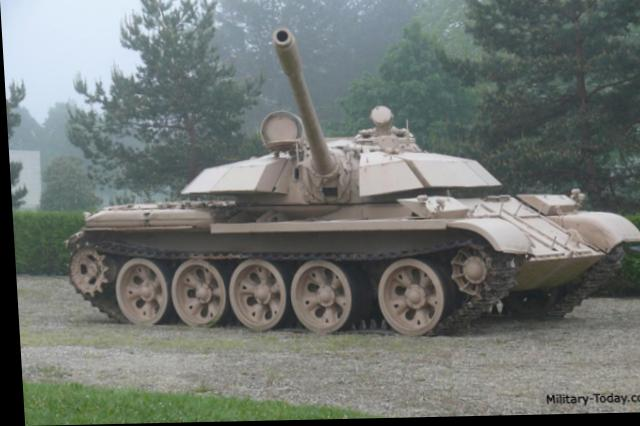tank: (60, 129, 629, 333)
